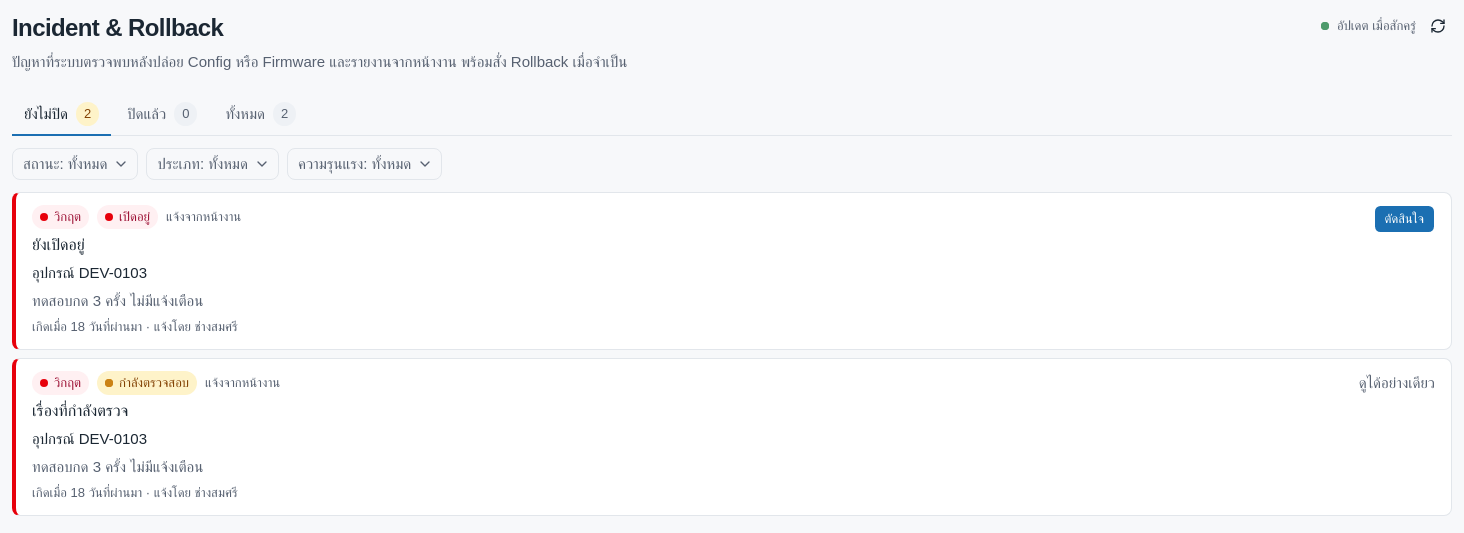
Test: IncidentsView: แท็บ ยังไม่ปิด / ปิดแล้ว / ทั้งหมด › ยังเปิดอยู่ทั้งหมด: แท็บ 'ปิดแล้ว' บอกว่ายังไม่มีที่ปิดแล้ว
Step 1. Click the button "ปิดแล้ว 0" → (162, 115), box [115,94,209,136]
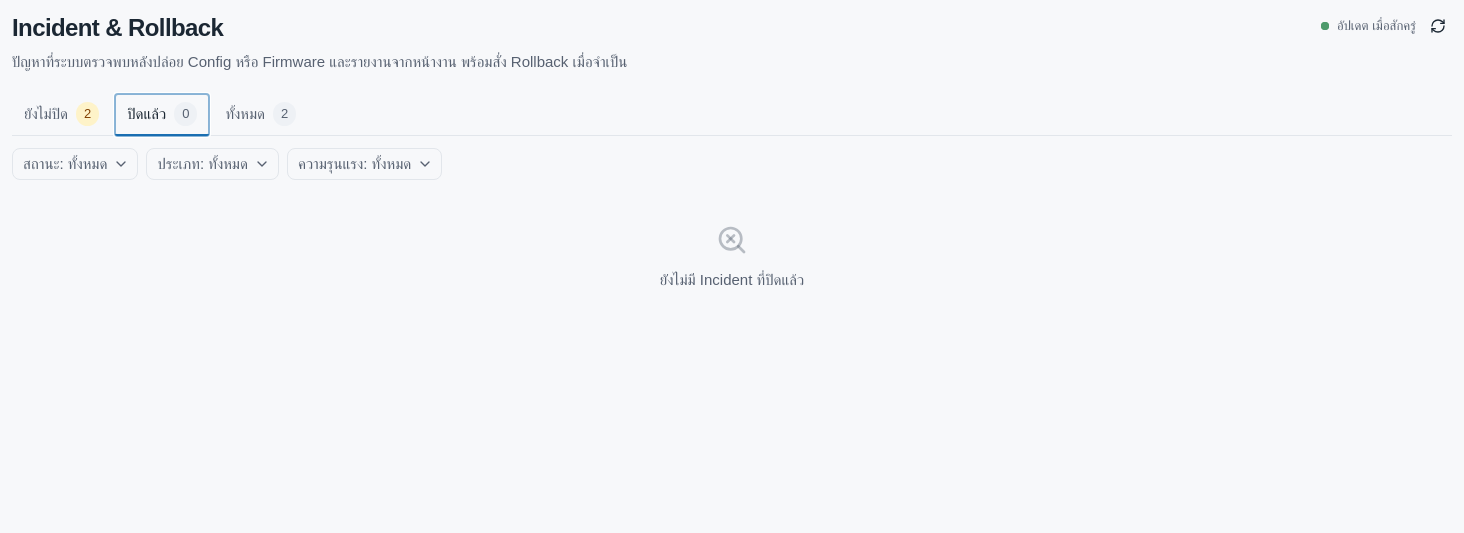
Expected: the text "ยังไม่มี Incident ที่ปิดแล้ว" is shown, [660,268,804,292]
